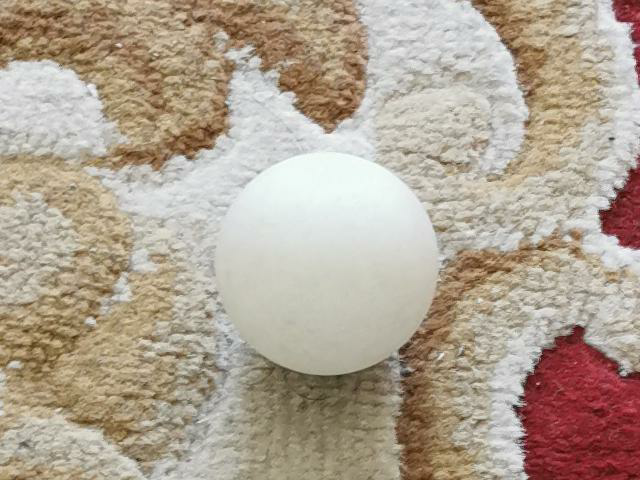ball: (210, 153, 439, 373)
